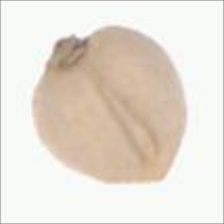L5: (80, 60, 159, 164), (41, 33, 93, 77), (140, 146, 182, 185)
L6: (30, 26, 188, 188)
